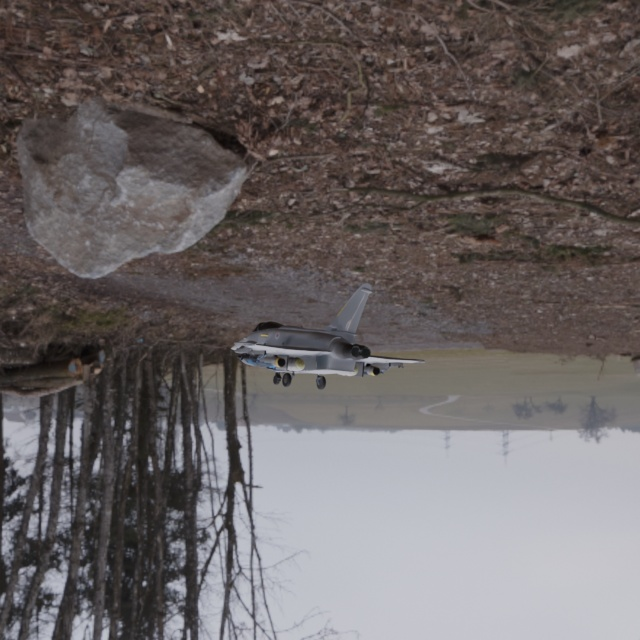eurofighter_typhoon_3d: (150, 269, 457, 403)
